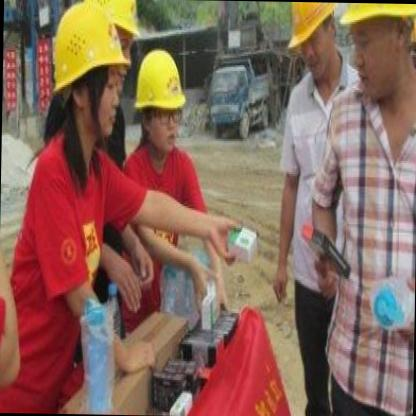helmet: (50, 0, 129, 144), (332, 2, 416, 105), (125, 42, 187, 164), (282, 2, 346, 96), (76, 0, 138, 60), (407, 9, 416, 77)
